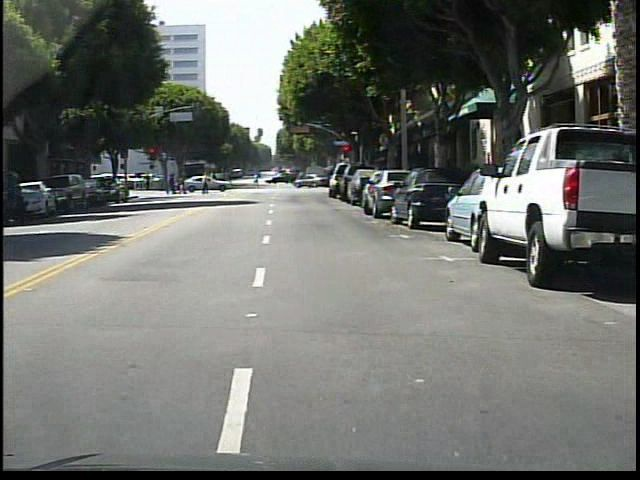person: (200, 167, 220, 196)
